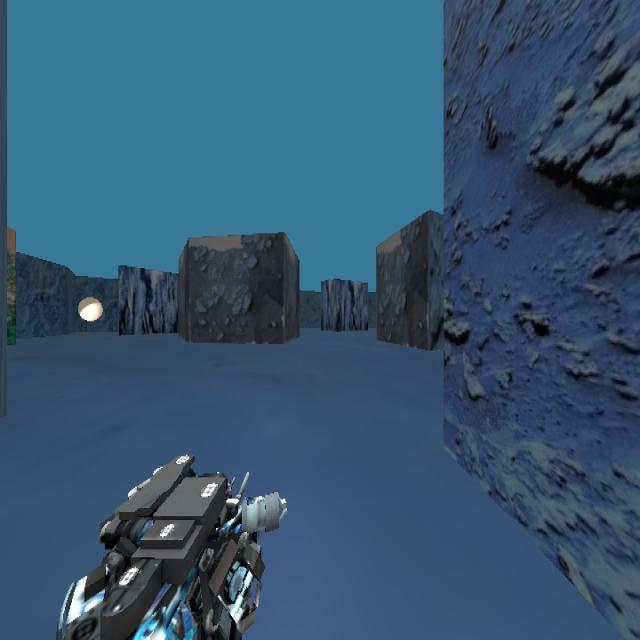Mushroom: (77, 294, 103, 322)
